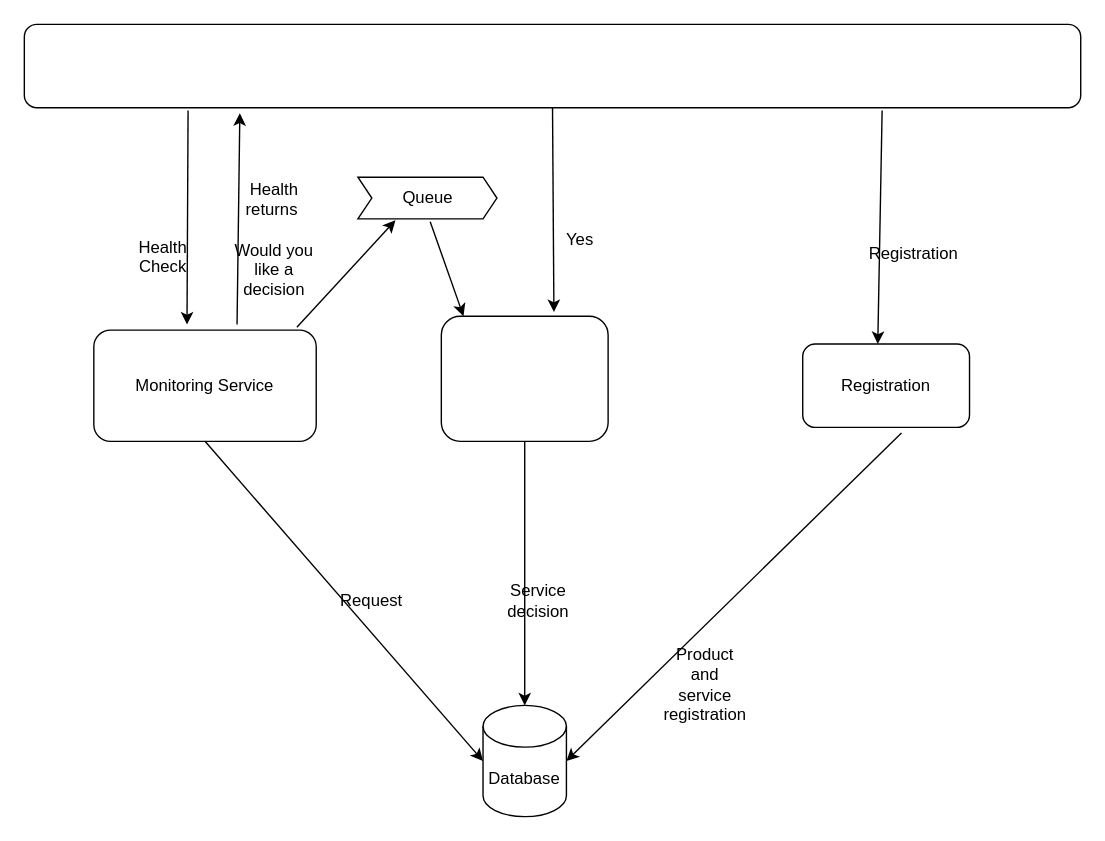
This 1105x841 diagram has some shape labels left out. The shapes that lost their labels are listed below. From the top down, each one's centre as x and y in pixels, then its label:
At point 552,65: "Front UI".
At point 524,378: "Decision service".
